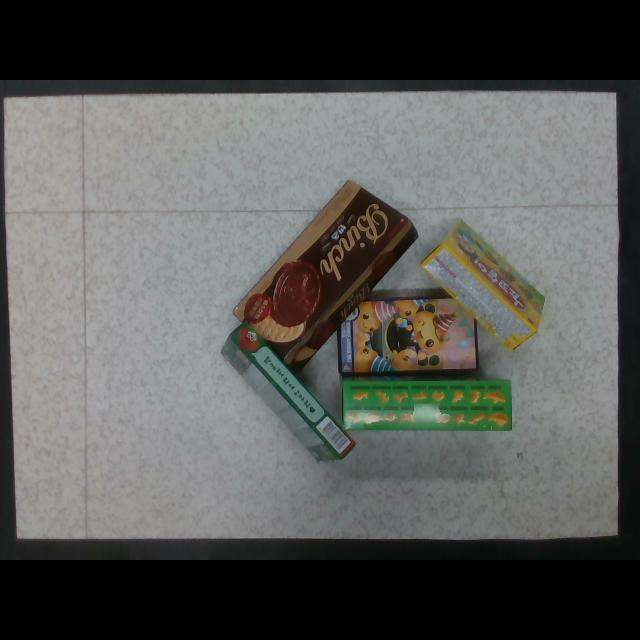box: (233, 181, 419, 370), (223, 324, 355, 461), (422, 220, 546, 350), (334, 296, 476, 375), (343, 376, 514, 432)
